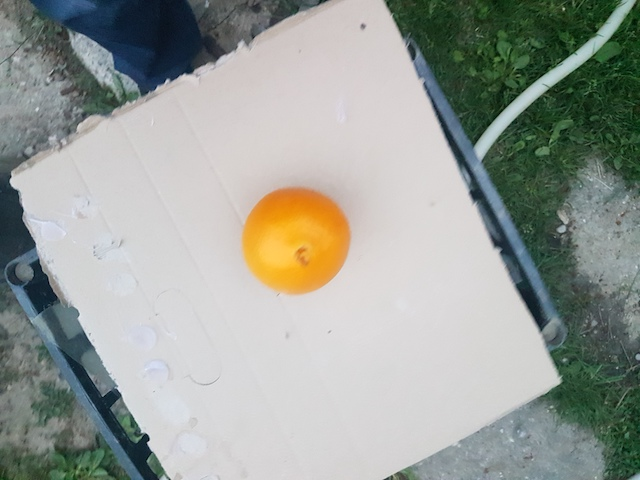orange: (241, 183, 359, 297)
